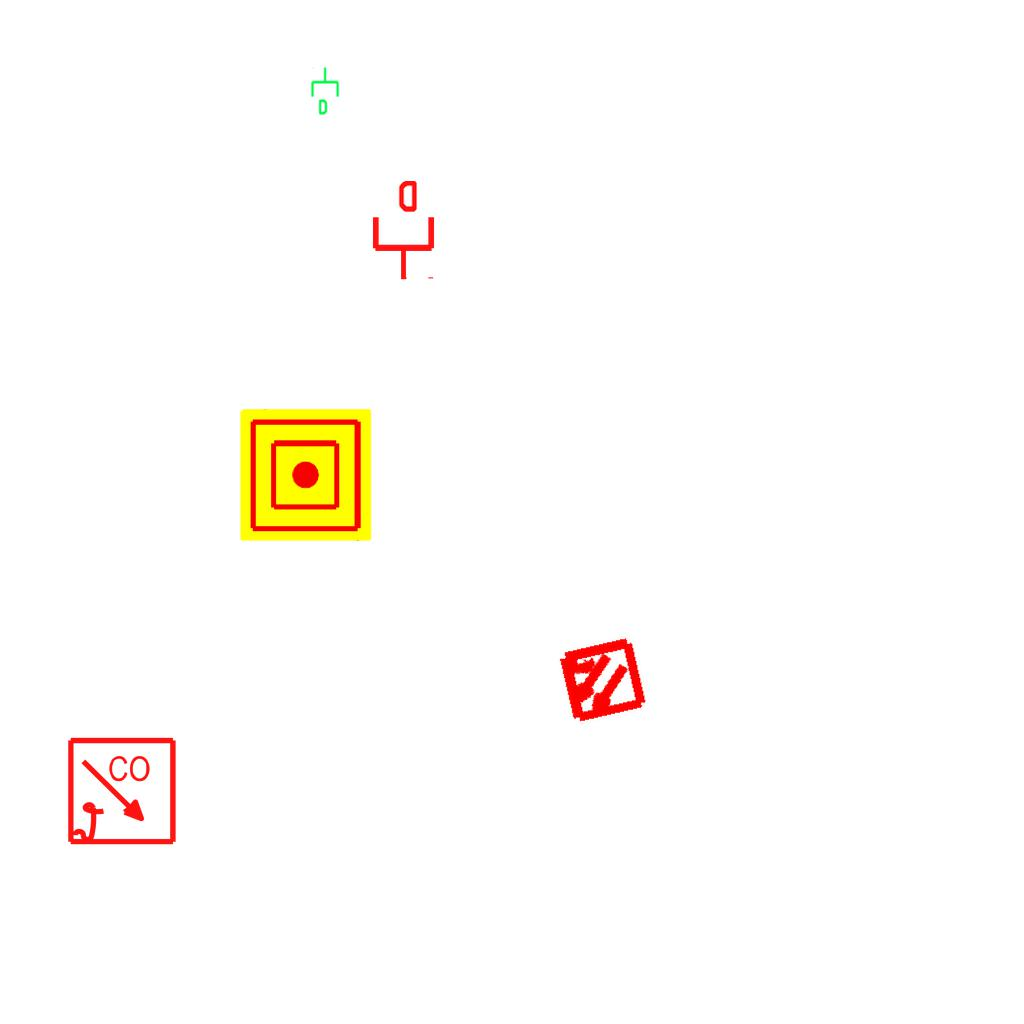Datenanschluss_einfach: (369, 181, 438, 281), (309, 66, 343, 116)
NAM-Nichtautomatischer_Melder: (240, 409, 372, 541)
OT_Multisensormelder_(Kombination_RMO_WMD): (532, 612, 669, 749)
ROA_Rauchmelder_optisch_mit_Signalgeber_(Sockelsirene): (66, 736, 179, 849)
